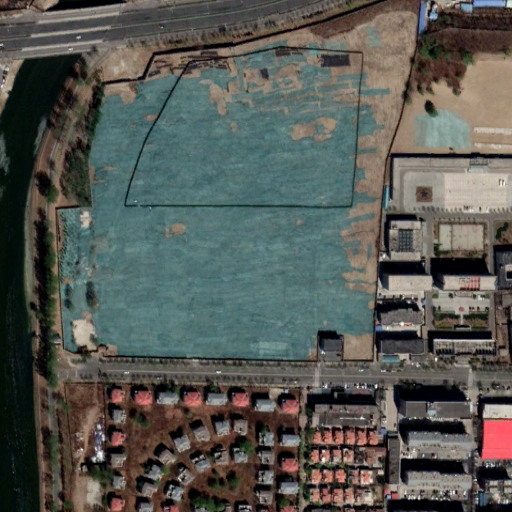cw: (60, 32, 385, 364)
